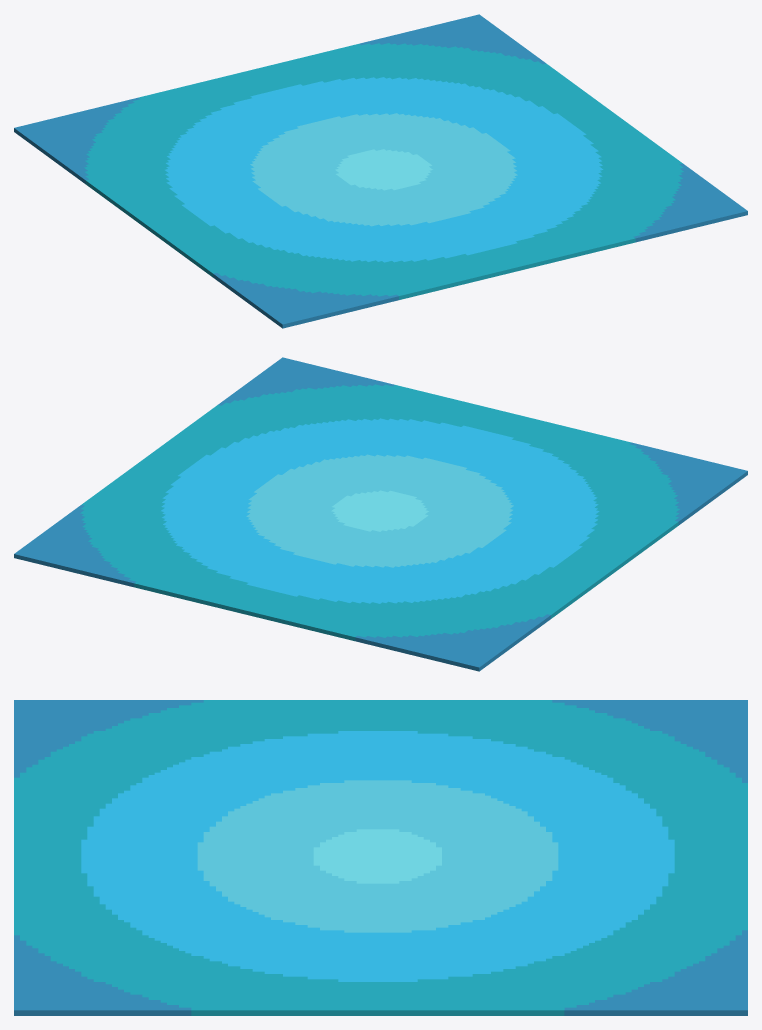
Rendered from ice_floor.obj.
3 renders of one model, top to bottom at view 1: azimuth 30°, elevation 25°; view 2: azimuth 150°, elevation 25°; view 3: azimuth 270°, elevation 25°, orthographic. The views are drawn at different scales.
Parts seen in each view (by area): view 1: ice_floor; view 2: ice_floor; view 3: ice_floor.
Boxes of the visible parts, x1=… form: ice_floor: x1=14, y1=14, x2=747, y2=328; ice_floor: x1=14, y1=357, x2=747, y2=671; ice_floor: x1=14, y1=700, x2=747, y2=1015.
Bounding box in the file's own units: 120 × 1 × 120.
1 material, 1 textured.
